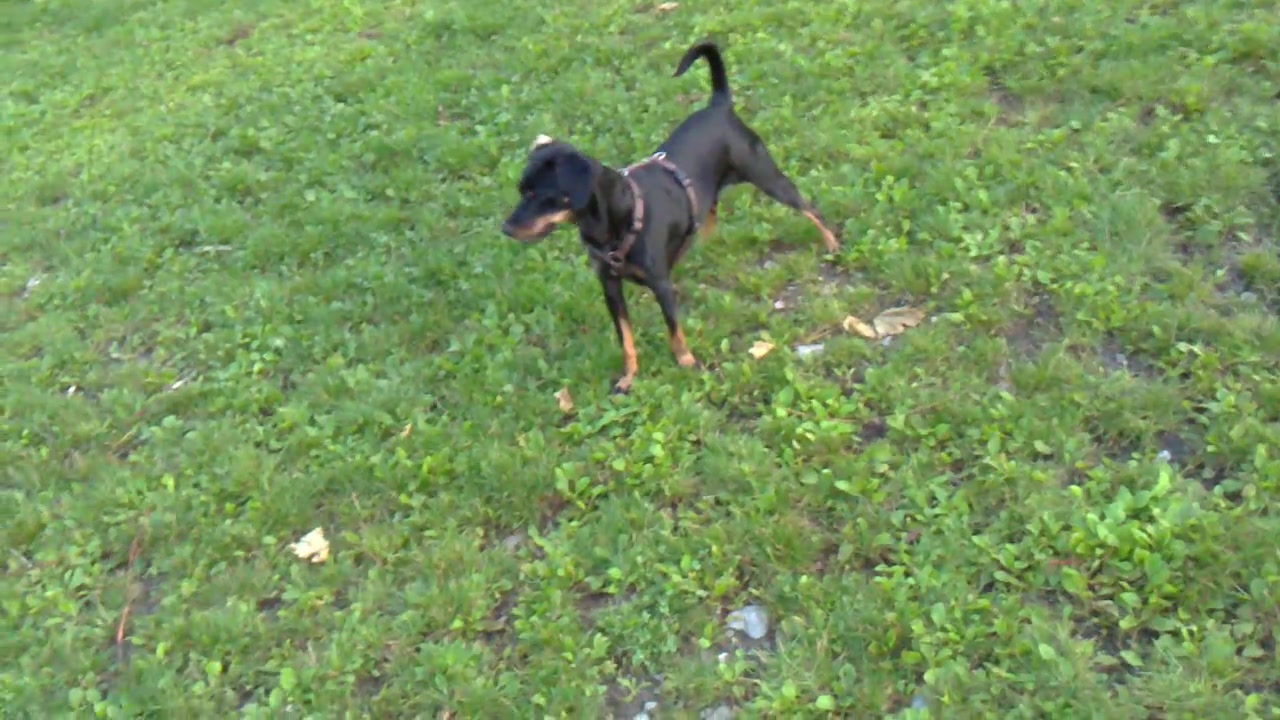dog: (497, 42, 845, 396)
